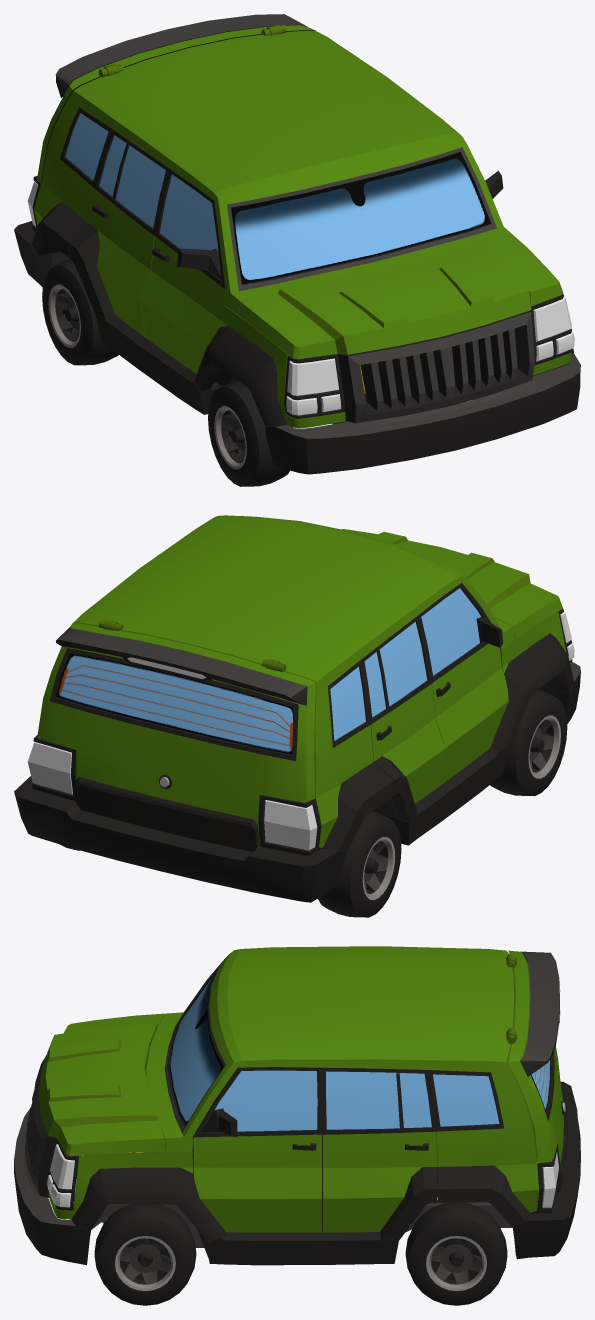
Rendered from vehicle_05.fbx.
The picture shows the model from 3 angles, top to bottom: view 1: azimuth 30°, elevation 25°; view 2: azimuth 150°, elevation 25°; view 3: azimuth 270°, elevation 25°; orthographic projection. The views are drawn at different scales.
Parts seen in each view (by area): view 1: Stage_207, Stage_201, Stage_208, Stage_101, Stage_206, Stage_204, Stage_209, Stage_302, Stage_304, Stage_202; view 2: Stage_209, Stage_207, Stage_202, Stage_101, Stage_204, Stage_206, Stage_208, Stage_304, Stage_302, Stage_201; view 3: Stage_207, Stage_101, Stage_203, Stage_205, Stage_208, Stage_209, Stage_303, Stage_301, Stage_201, Stage_202.
Part boxes in pixels (left/top/right/bottom): Stage_207: left=42, top=25, right=503, bottom=293; Stage_201: left=265, top=293, right=580, bottom=474; Stage_208: left=238, top=235, right=562, bottom=359; Stage_101: left=31, top=182, right=573, bottom=428; Stage_206: left=69, top=129, right=168, bottom=337; Stage_204: left=141, top=168, right=225, bottom=373; Stage_209: left=37, top=14, right=315, bottom=181; Stage_302: left=208, top=380, right=292, bottom=486; Stage_304: left=42, top=259, right=118, bottom=365; Stage_202: left=14, top=176, right=69, bottom=287; Stage_209: left=37, top=619, right=315, bottom=851; Stage_207: left=73, top=515, right=503, bottom=797; Stage_202: left=14, top=735, right=346, bottom=902; Stage_101: left=37, top=612, right=573, bottom=852; Stage_204: left=418, top=583, right=508, bottom=784; Stage_206: left=362, top=615, right=445, bottom=821; Stage_208: left=342, top=529, right=562, bottom=640; Stage_304: left=318, top=811, right=401, bottom=917; Stage_302: left=490, top=690, right=567, bottom=796; Stage_201: left=538, top=609, right=580, bottom=724; Stage_207: left=164, top=946, right=537, bottom=1179; Stage_101: left=48, top=1012, right=552, bottom=1265; Stage_203: left=193, top=1067, right=321, bottom=1232; Stage_205: left=322, top=1067, right=437, bottom=1240; Stage_208: left=38, top=1013, right=165, bottom=1156; Stage_209: left=506, top=950, right=567, bottom=1191; Stage_303: left=405, top=1202, right=507, bottom=1305; Stage_301: left=94, top=1204, right=196, bottom=1305; Stage_201: left=14, top=1055, right=91, bottom=1264; Stage_202: left=512, top=1081, right=580, bottom=1259.
Size of the model in its own units: 129 by 99.19 by 207.
